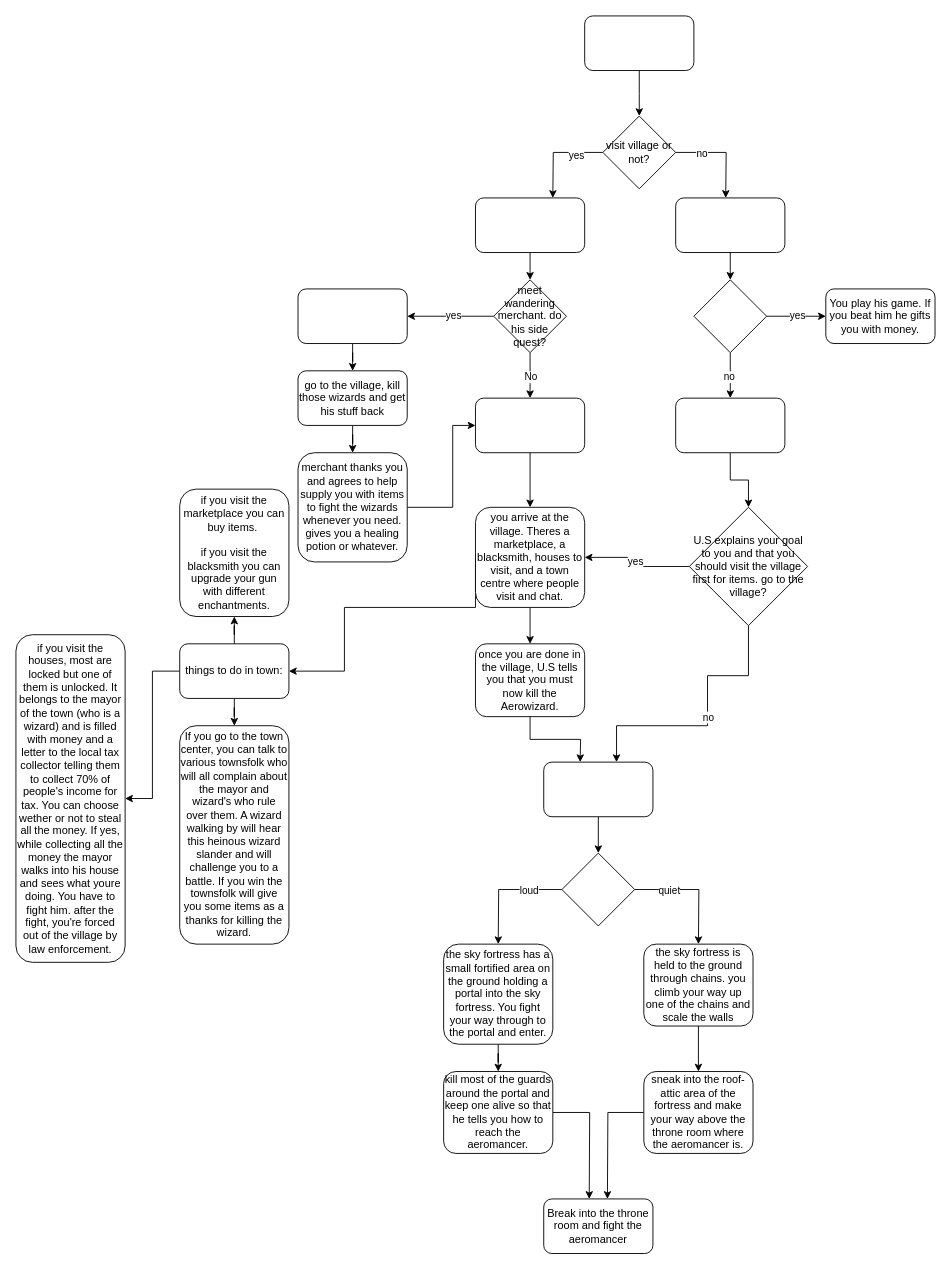
Some shapes in this 951 by 1269 pixel diagram are drawn without their labels. The centre of each missing label's shape, as x and y in pixels:
continue along until in the distance you see the Aeromancer's sky fortress.: (730,425)
continue walking towards village in ventus bay.: (530,425)
intro (same as it is already, ends with player stepping outside): (639,43)
meet galdon. play his game?: (730,316)
merchant tells you about how he was robbed by some wizards in the village: (352,316)
The player finds an alternative pathway that continues far into the horizon.: (730,225)
theres two ways in, loud way or quiet way.: (598,889)
walking along path to village: (530,225)
You approach the Aerowizard's sky fortress.: (598,789)
